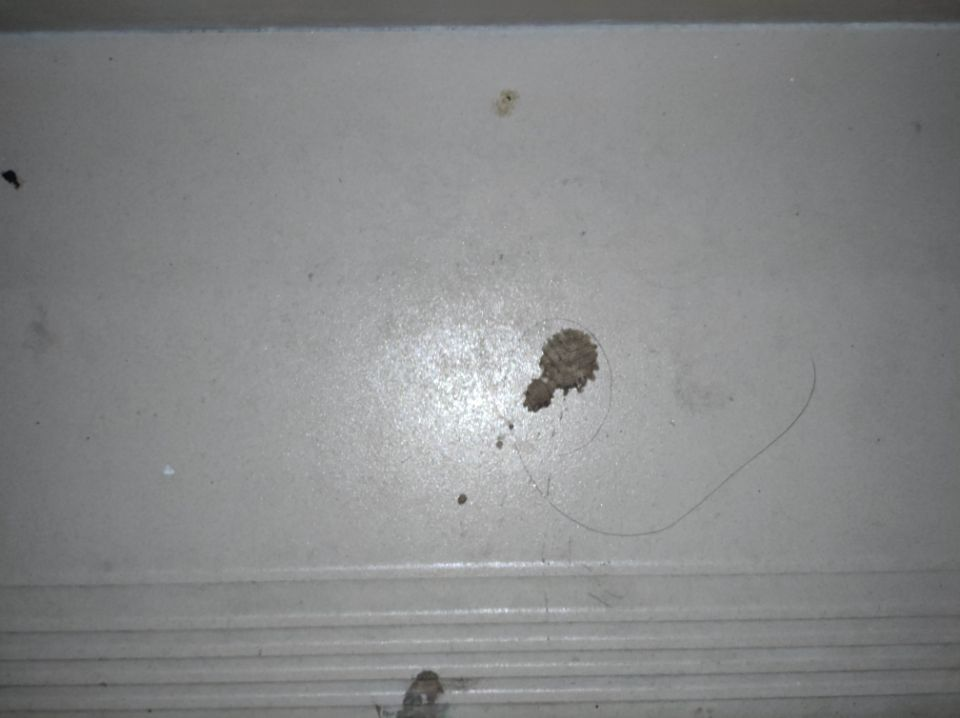grey spot: (524, 328, 599, 413), (399, 668, 448, 717), (493, 90, 518, 116), (2, 168, 21, 192), (458, 495, 468, 505)
